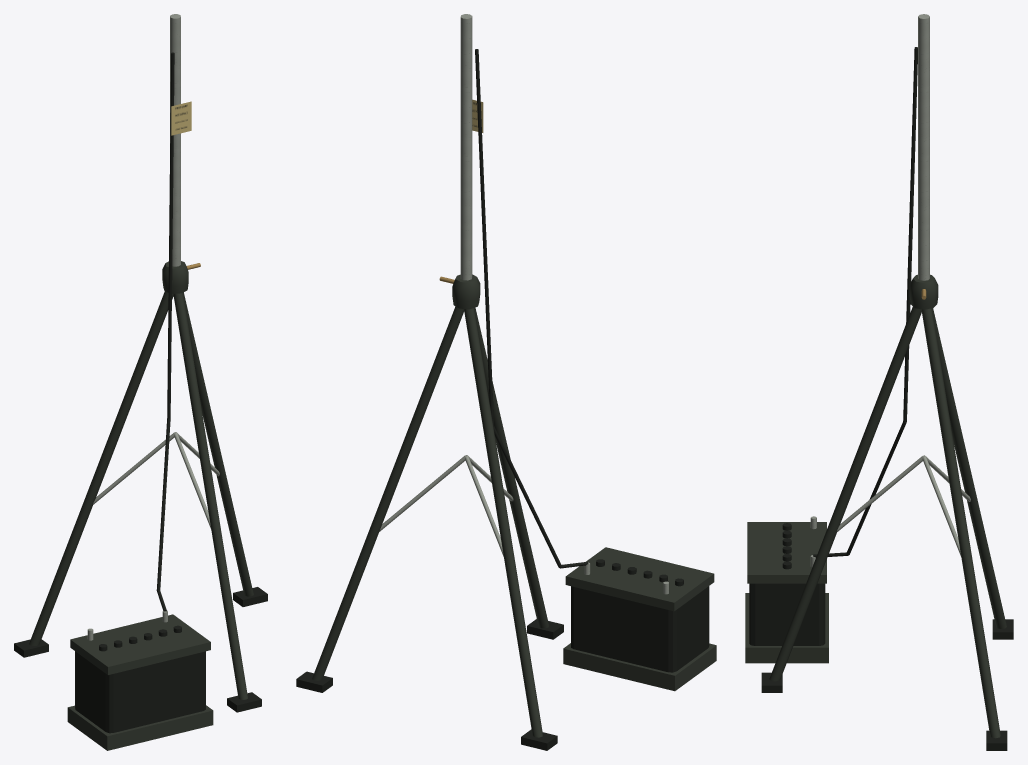
Rendered from SM_FieldKit_LampStand_LOD1.fbx.
The picture shows the model from 3 angles, left to right: view 1: azimuth 30°, elevation 25°; view 2: azimuth 150°, elevation 25°; view 3: azimuth 270°, elevation 25°; orthographic projection. The views are drawn at different scales.
Visible parts, largest first — view 1: SM_FieldKit_LampStand_LOD1; view 2: SM_FieldKit_LampStand_LOD1; view 3: SM_FieldKit_LampStand_LOD1.
Boxes of the visible parts, box(x1,y1,x2,y2) form: SM_FieldKit_LampStand_LOD1: box(14, 14, 267, 750); SM_FieldKit_LampStand_LOD1: box(296, 14, 716, 750); SM_FieldKit_LampStand_LOD1: box(745, 14, 1013, 750).
Size of the model in its own units: 0.881 by 0.7056 by 1.95.
